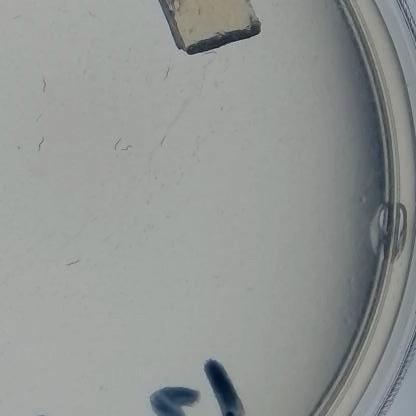worm: (63, 254, 84, 270), (35, 131, 47, 156), (30, 111, 45, 125), (158, 132, 169, 151), (160, 65, 173, 81), (39, 73, 48, 95), (109, 137, 122, 151), (121, 139, 129, 160)
